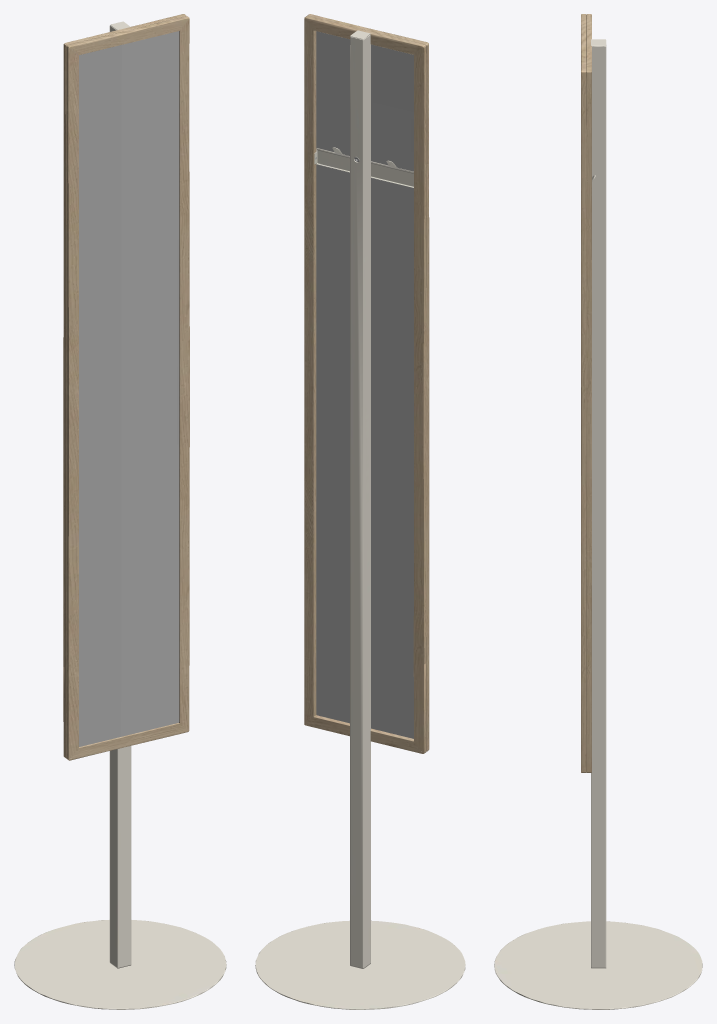
File: kompishang_lustro_stojace_60628791.glb
3 views of the same model, side by side, from view 1: azimuth 30°, elevation 25°; view 2: azimuth 150°, elevation 25°; view 3: azimuth 270°, elevation 25° (orthographic).
Visible parts, largest first — view 1: kompishang_lustro_stojace_60628791; view 2: kompishang_lustro_stojace_60628791; view 3: kompishang_lustro_stojace_60628791.
Part boxes in pixels (x1,y1,x2,y2): kompishang_lustro_stojace_60628791: (14, 14, 226, 1009); kompishang_lustro_stojace_60628791: (255, 14, 465, 1009); kompishang_lustro_stojace_60628791: (494, 14, 702, 1009).
Bounding box in the file's own units: 0.3785 × 1.85 × 0.3781.
1 material, 1 textured.
